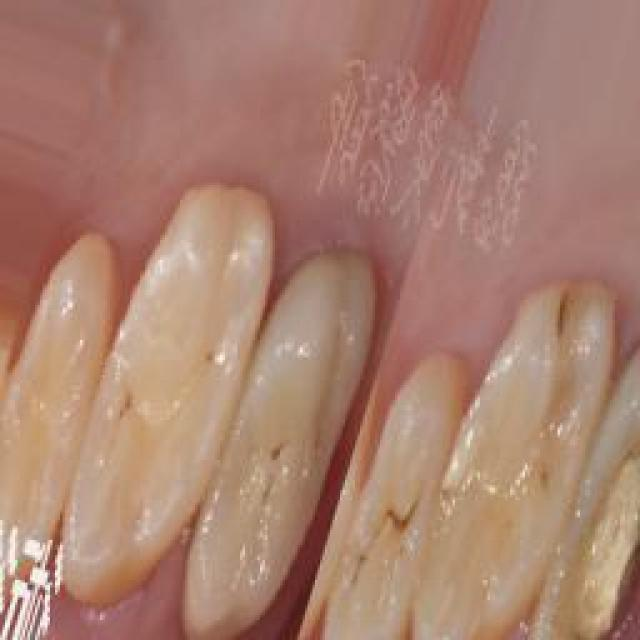caries: (580, 457, 638, 635), (350, 493, 418, 616)
